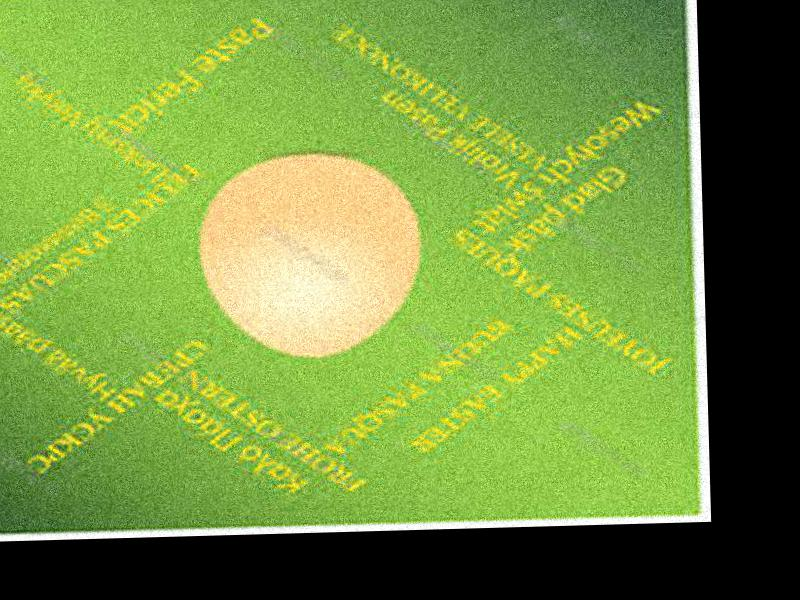Eggs: (196, 153, 420, 355)
